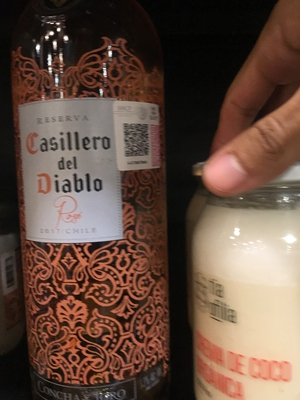casillero del diablo rose: (1, 3, 181, 400)
